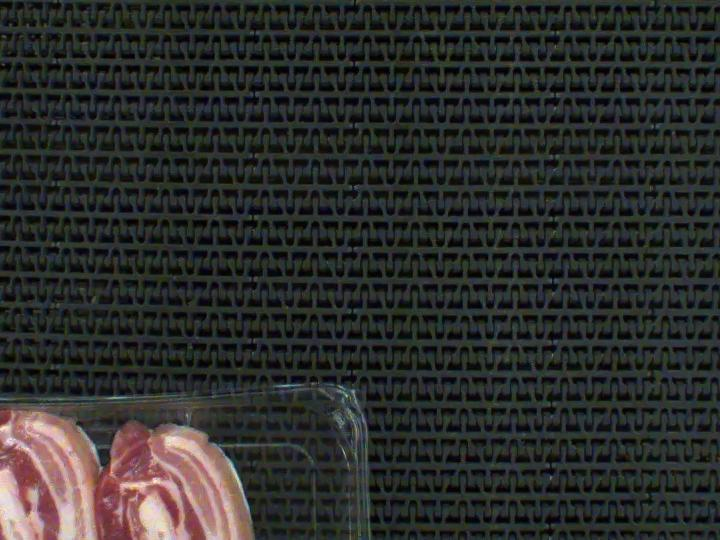packaging-error: (0, 371, 226, 472)
